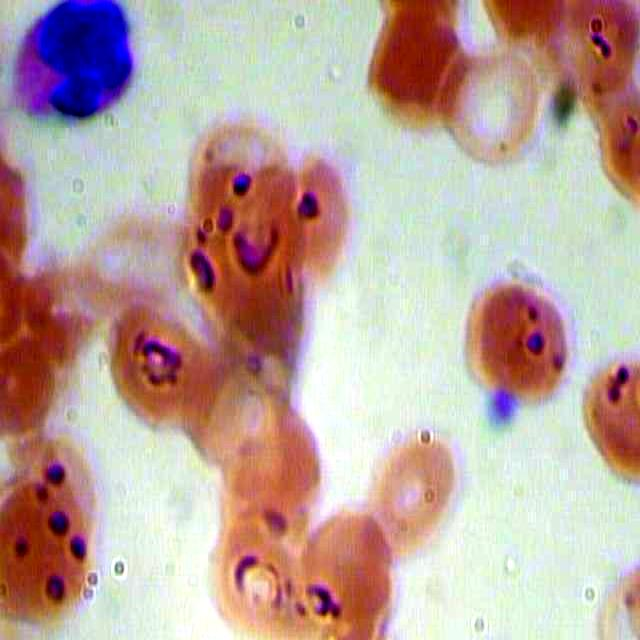Platelets: (479, 386, 519, 434)
RBC: (452, 266, 587, 411), (1, 476, 107, 631), (357, 425, 465, 560), (295, 505, 403, 640), (108, 296, 216, 431), (197, 505, 305, 640), (440, 32, 548, 167), (362, 2, 470, 134), (226, 391, 331, 509), (575, 359, 640, 488), (290, 151, 355, 280)
WBC: (9, 2, 137, 138)
